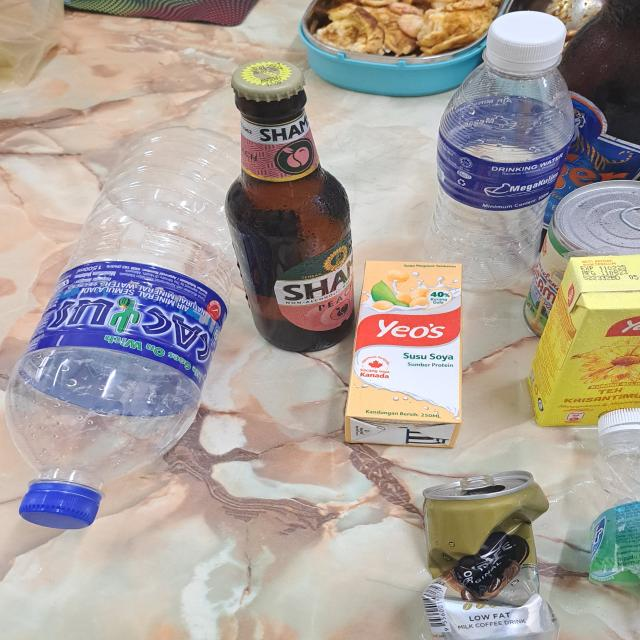can: (412, 467, 554, 640), (524, 185, 640, 330)
drink carton: (350, 262, 464, 450), (535, 251, 640, 428)
glass bottle: (218, 63, 352, 353), (523, 0, 640, 250)
plastic bottle: (0, 131, 244, 484), (438, 67, 584, 286), (576, 438, 640, 640)
plastic bottle cap: (488, 12, 570, 68), (17, 482, 101, 530), (595, 407, 640, 429)
pop tab: (460, 466, 490, 488)
